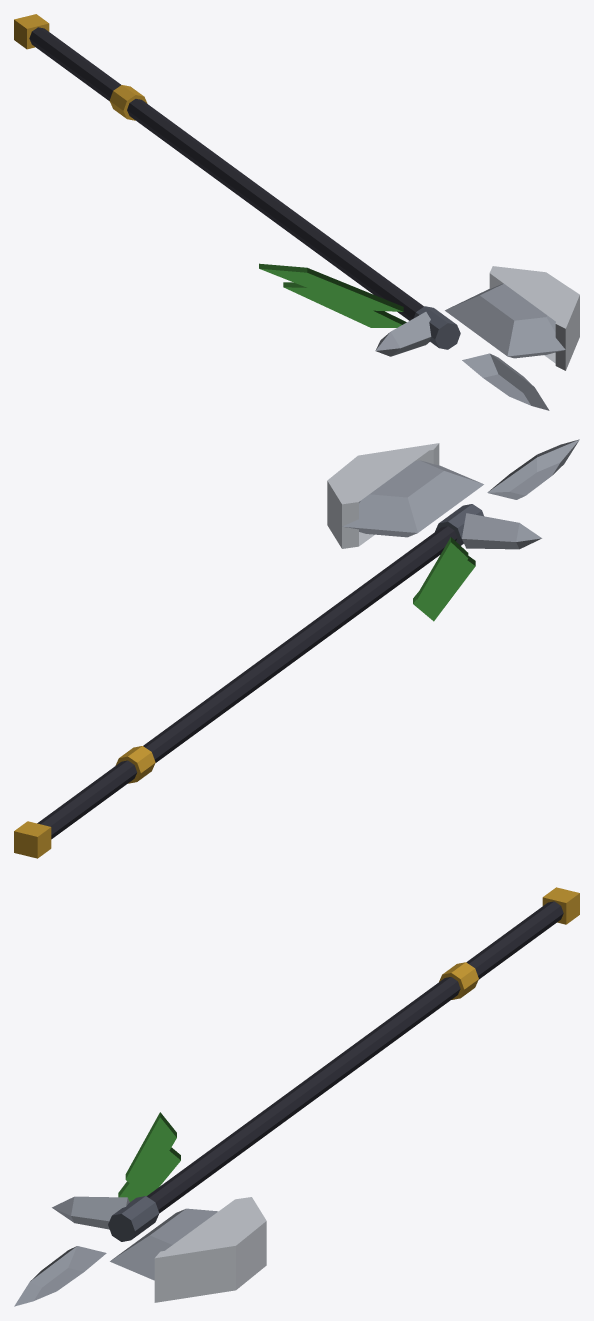
Rendered from 11_Halberd.glb.
3 renders of one model, top to bottom at view 1: azimuth 30°, elevation 25°; view 2: azimuth 150°, elevation 25°; view 3: azimuth 330°, elevation 25°, orthographic. The views are drawn at different scales.
Parts seen in each view (by area): view 1: 11_Halberd; view 2: 11_Halberd; view 3: 11_Halberd.
Part boxes in pixels (x1=…): 11_Halberd: x1=14, y1=14, x2=579, y2=410; 11_Halberd: x1=14, y1=439, x2=579, y2=858; 11_Halberd: x1=14, y1=887, x2=579, y2=1306.
Size of the model in its own units: 0.49 by 0.1008 by 2.27.
